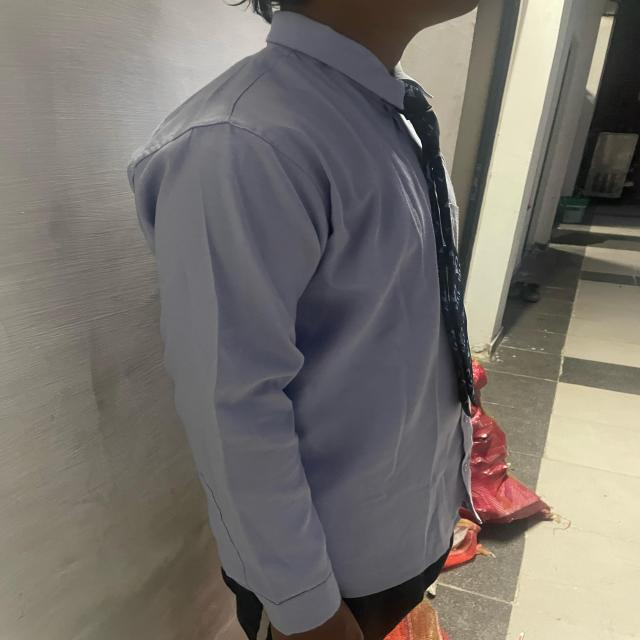Tie: (403, 80, 473, 400)
uniform: (126, 10, 480, 638)
